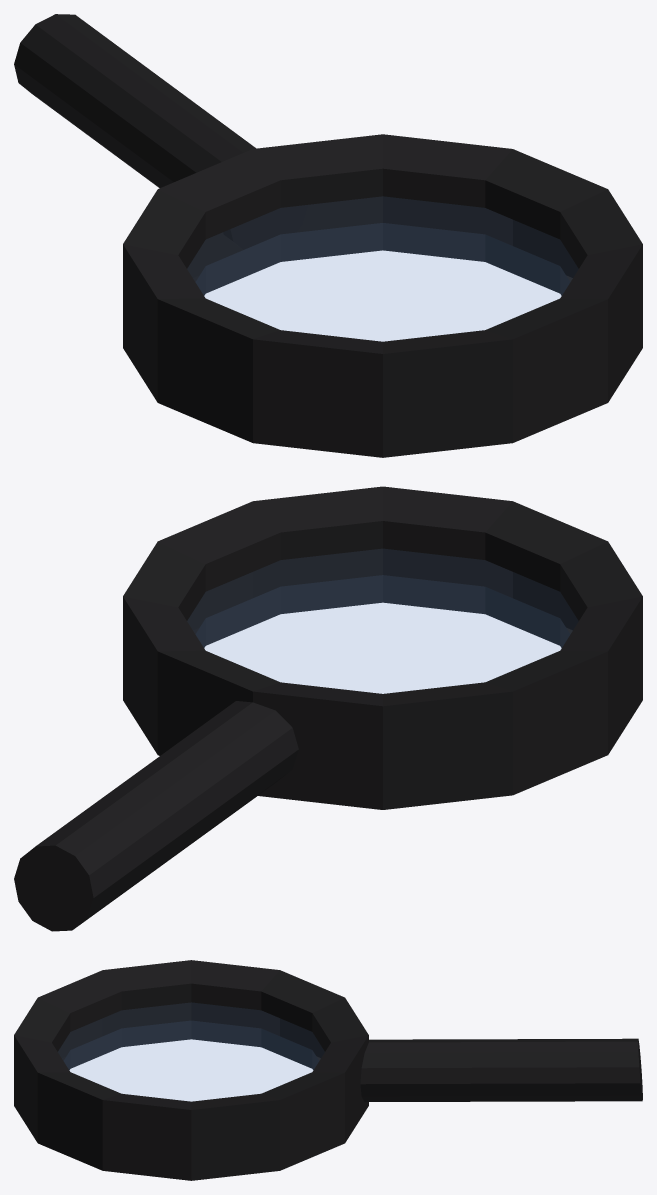
File: Tool_MagnifyingGlass.fbx
3 views of the same model, one above another, from view 1: azimuth 30°, elevation 25°; view 2: azimuth 150°, elevation 25°; view 3: azimuth 270°, elevation 25° (orthographic). The views are drawn at different scales.
Visible parts, largest first — view 1: Cylinder; view 2: Cylinder; view 3: Cylinder.
Boxes of the visible parts, x1,y1,x2,y2 form: Cylinder: (14,14,642,457); Cylinder: (14,486,642,931); Cylinder: (14,960,642,1180).
Bounding box in the file's own units: 200 × 44.06 × 354.
